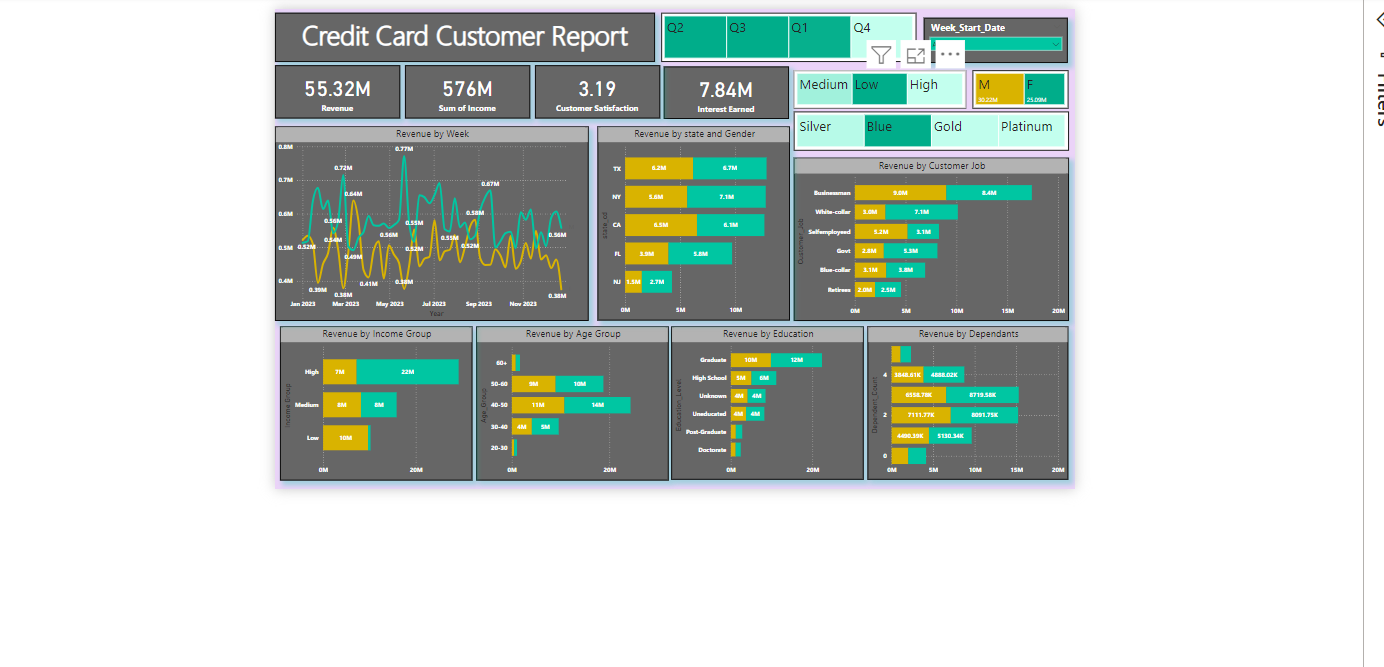

Layout of this report page (visuals, bound fields, positions):
{"tool":"powerbi","page":{"name":"CC Customer Report","canvas":[1600,960],"ordinal":1},"visuals":[{"type":"textbox","box":[0,8.3,760,98.3],"z":0},{"type":"barChart","title":"Revenue by Age Group","fields":{"Y":["Sum(credit_card.Revenue)"],"Category":["customer.Age_Group"],"Series":["customer.Gender"]},"box":[401.7,635,385,308.3],"z":1000},{"type":"barChart","title":"Revenue by Education","fields":{"Y":["Sum(credit_card.Revenue)"],"Category":["customer.Education_Level"],"Series":["customer.Gender"]},"box":[793.3,635,385,306.7],"z":2000},{"type":"barChart","title":"Revenue by Customer Job","fields":{"Y":["Sum(credit_card.Revenue)"],"Series":["customer.Gender"],"Category":["customer.Customer_Job"]},"box":[1036.7,296.7,550,326.7],"z":3000},{"type":"barChart","title":"Revenue by state and Gender","fields":{"Category":["customer.state_cd"],"Y":["Sum(credit_card.Revenue)"],"Series":["customer.Gender"]},"box":[644.2,235,385,388.3],"z":4000},{"type":"barChart","title":"Revenue by Income Group","fields":{"Y":["Sum(credit_card.Revenue)"],"Category":["customer.Income Group"],"Series":["customer.Gender"]},"box":[10,635,385,308.3],"z":5000},{"type":"card","fields":{"Values":["Sum(credit_card.Revenue)"]},"box":[0,113.5,250,106.7],"z":6000},{"type":"card","fields":{"Values":["Sum(customer.Income)"]},"box":[259.4,113.5,250,106.7],"z":7000},{"type":"card","fields":{"Values":["Sum(credit_card.Interest_Earned)"]},"box":[778.3,114.3,250,105],"z":8000},{"type":"card","fields":{"Values":["Avg(customer.Cust_Satisfaction_Score)"]},"box":[518.9,113.5,250,106.7],"z":9000},{"type":"slicer","fields":{"Values":["credit_card.Week_Start_Date"]},"box":[1298.3,16.7,288.3,90],"z":10000},{"type":"treemap","fields":{"Group":["credit_card.Qtr"],"Values":["CountNonNull(credit_card.Client_Num)"]},"box":[773.3,8.3,510,98.3],"z":11000},{"type":"treemap","fields":{"Group":["customer.Gender"],"Values":["Sum(credit_card.Revenue)"]},"box":[1395,123.3,191.7,76.7],"z":12000},{"type":"treemap","fields":{"Group":["credit_card.Card_Category"],"Values":["Avg(customer.Client_Num)"]},"box":[1036.7,205,550,78.3],"z":13000},{"type":"treemap","fields":{"Group":["customer.Income Group"],"Values":["Avg(customer.Client_Num)"]},"box":[1036.7,123.3,345,76.7],"z":14000},{"type":"barChart","title":"Revenue by Dependants","fields":{"Category":["customer.Dependent_Count"],"Y":["Sum(credit_card.Revenue)"],"Series":["customer.Gender"]},"box":[1185,635,401.7,306.7],"z":15000},{"type":"lineChart","title":"Revenue by Week","fields":{"Y":["Sum(credit_card.Revenue)"],"Category":["credit_card.Week_Start_Date.Variation.Date Hierarchy.Year","credit_card.Week_Start_Date.Variation.Date Hierarchy.Month","credit_card.Week_Start_Date.Variation.Date Hierarchy.Day"],"Series":["customer.Gender"]},"box":[0,234.9,627,388.9],"z":16000}]}

Visuals, with their boxes on the page's 1600x960 design canvas (x1, y1, x2, y2). These are canvas units, not pixel positions in the 1384x667 screenshot, which may show the page scaled, cropped or inside an application window:
textbox: l=0, t=8, r=760, b=107
"Revenue by Age Group" barChart: l=402, t=635, r=787, b=943
"Revenue by Education" barChart: l=793, t=635, r=1178, b=942
"Revenue by Customer Job" barChart: l=1037, t=297, r=1587, b=623
"Revenue by state and Gender" barChart: l=644, t=235, r=1029, b=623
"Revenue by Income Group" barChart: l=10, t=635, r=395, b=943
card - Sum(credit_card.Revenue): l=0, t=114, r=250, b=220
card - Sum(customer.Income): l=259, t=114, r=509, b=220
card - Sum(credit_card.Interest_Earned): l=778, t=114, r=1028, b=219
card - Avg(customer.Cust_Satisfaction_Score): l=519, t=114, r=769, b=220
slicer - credit_card.Week_Start_Date: l=1298, t=17, r=1587, b=107
treemap - credit_card.Qtr x CountNonNull(credit_card.Client_Num): l=773, t=8, r=1283, b=107
treemap - customer.Gender x Sum(credit_card.Revenue): l=1395, t=123, r=1587, b=200
treemap - credit_card.Card_Category x Avg(customer.Client_Num): l=1037, t=205, r=1587, b=283
treemap - customer.Income Group x Avg(customer.Client_Num): l=1037, t=123, r=1382, b=200
"Revenue by Dependants" barChart: l=1185, t=635, r=1587, b=942
"Revenue by Week" lineChart: l=0, t=235, r=627, b=624
